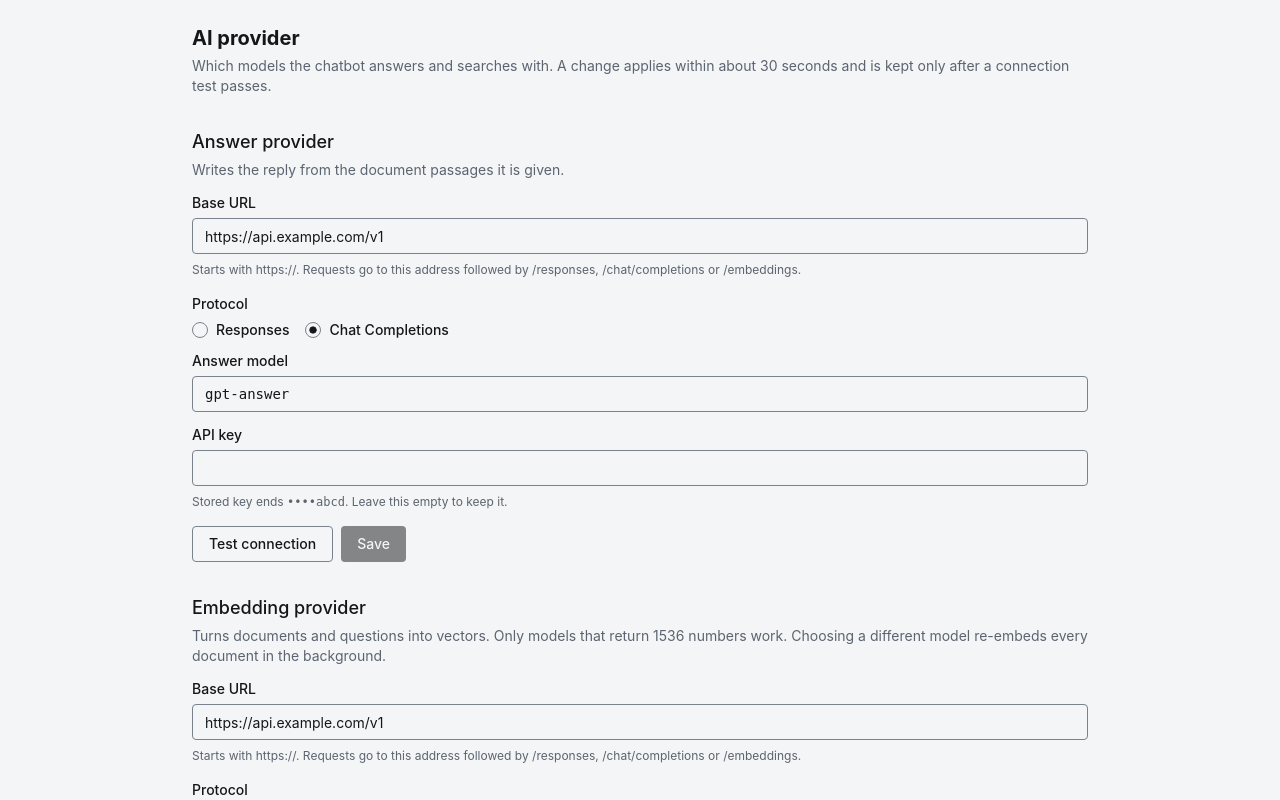
Test case: keeps the form and shows why when the connection test fails on save
The image size is (1280, 800).
Replace the text in the field labelled "Answer model" with "gpt-new" at (640, 394), box [192, 376, 1088, 412]
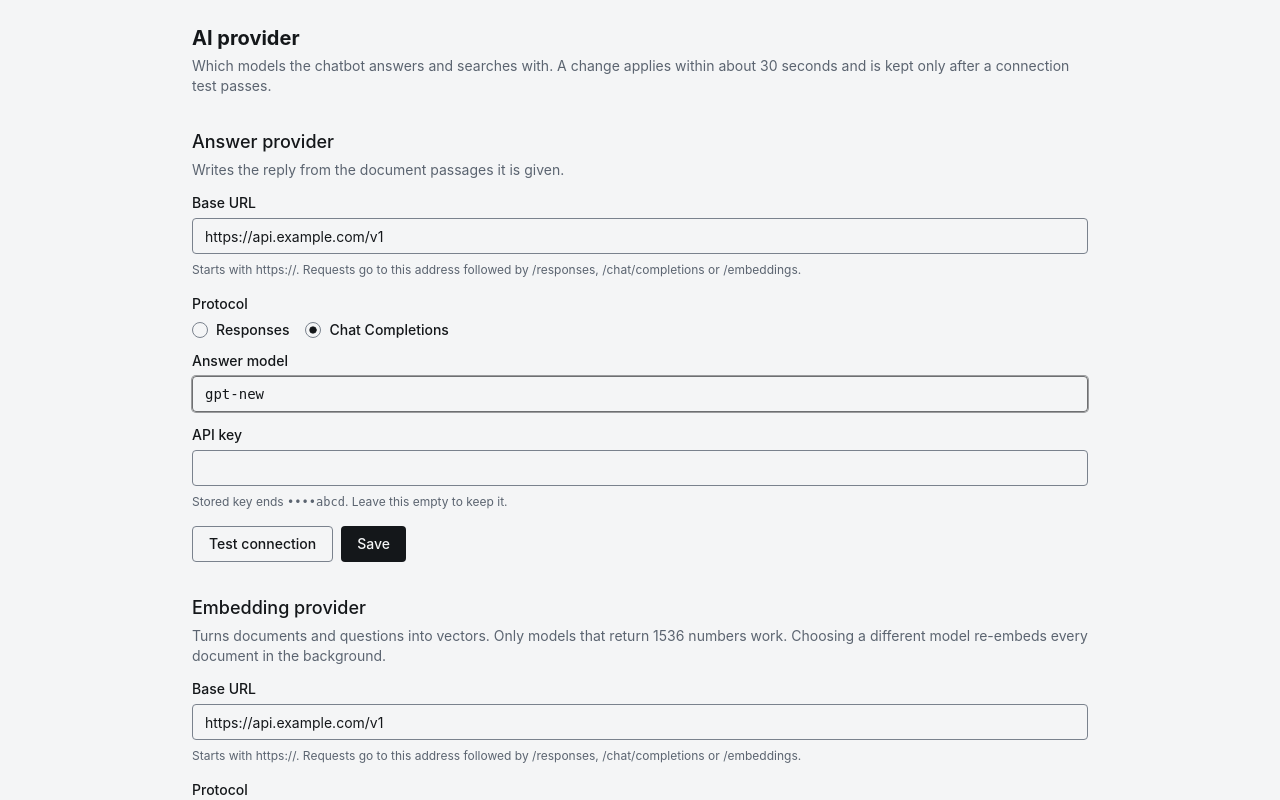
Click the button with aria-label "Save answer provider" at (374, 544), box [341, 526, 406, 562]
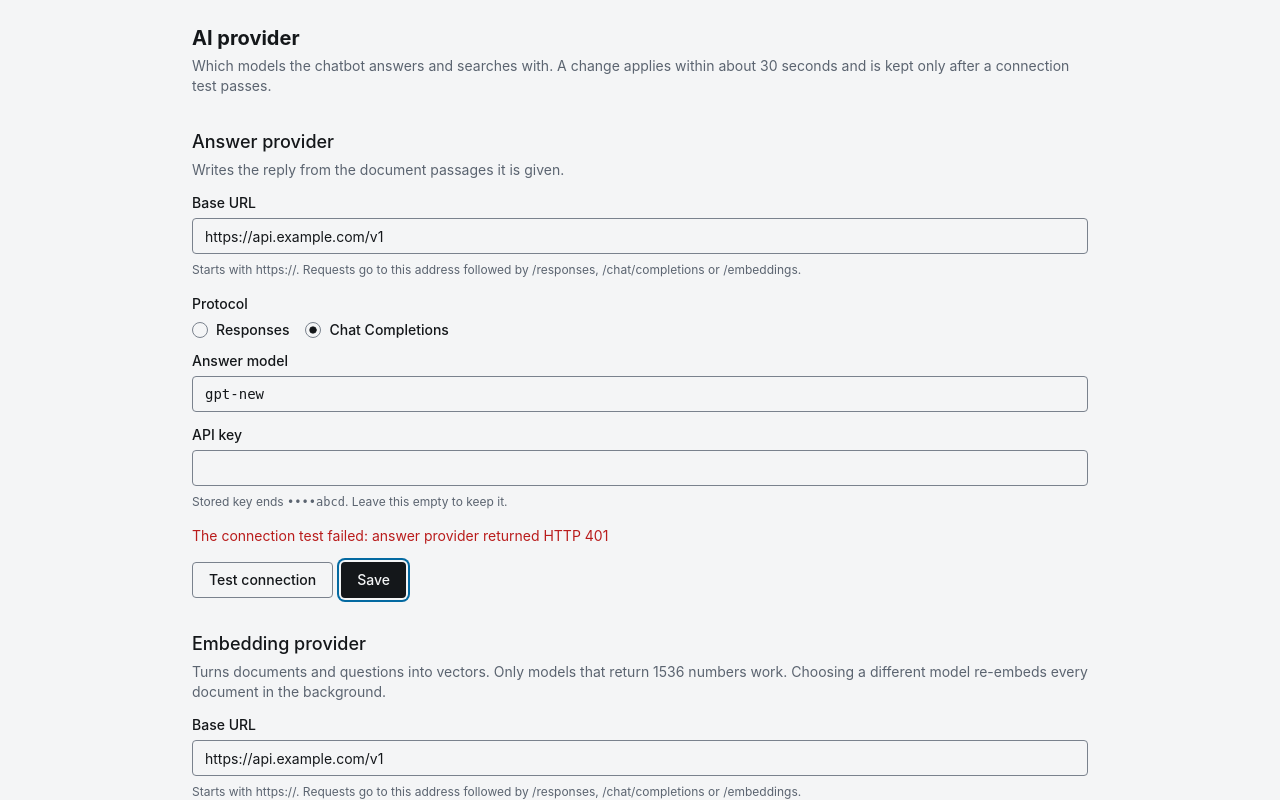
Check: the message shows "answer provider returned HTTP 401", box [192, 527, 608, 544]
